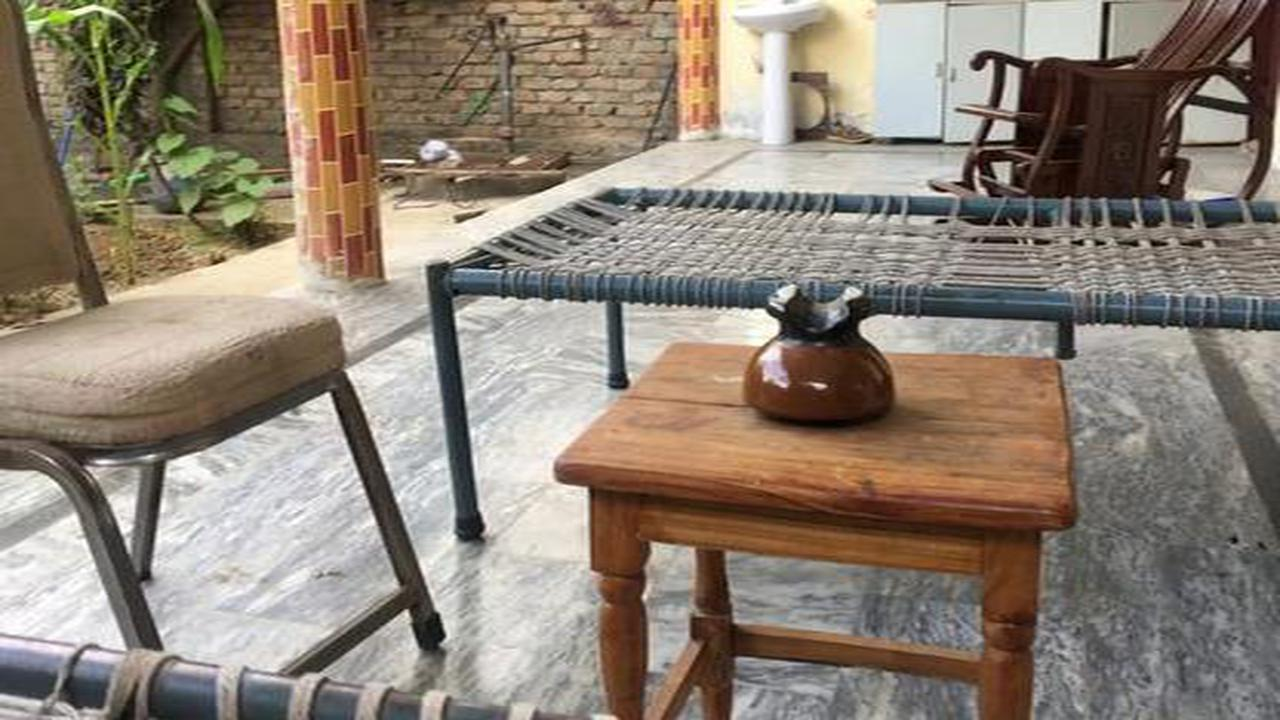insulator_pin: (727, 265, 917, 440)
